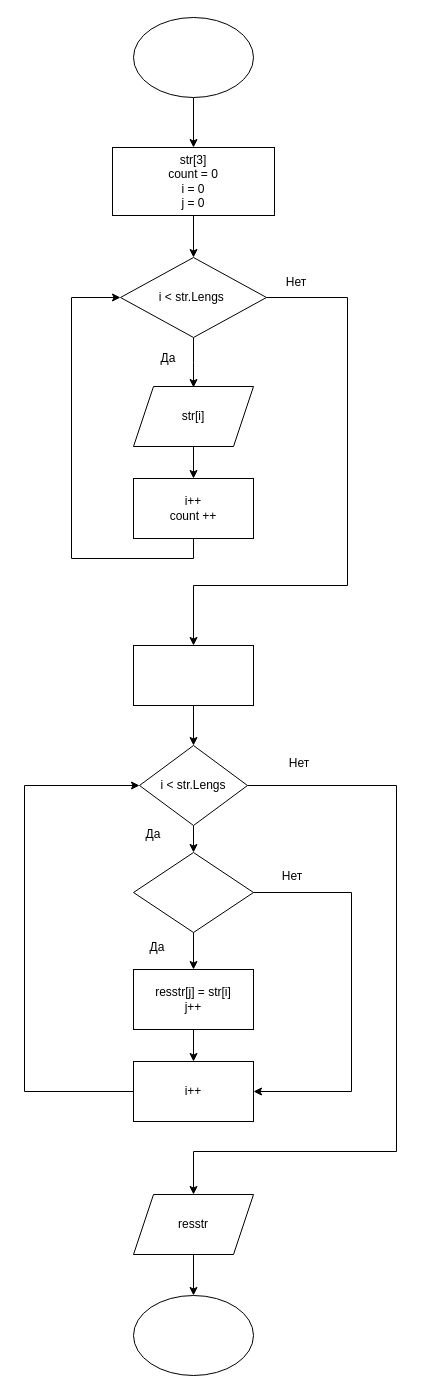
Image size: 422x1393. Some labels were removed from this diagram. Each missing label, with the centre of its shape:
resstr[count] i = 0: point 193,675
str[i].Lengs <= 3: point 193,892
конец: point 193,1335
Начало: point 193,57
